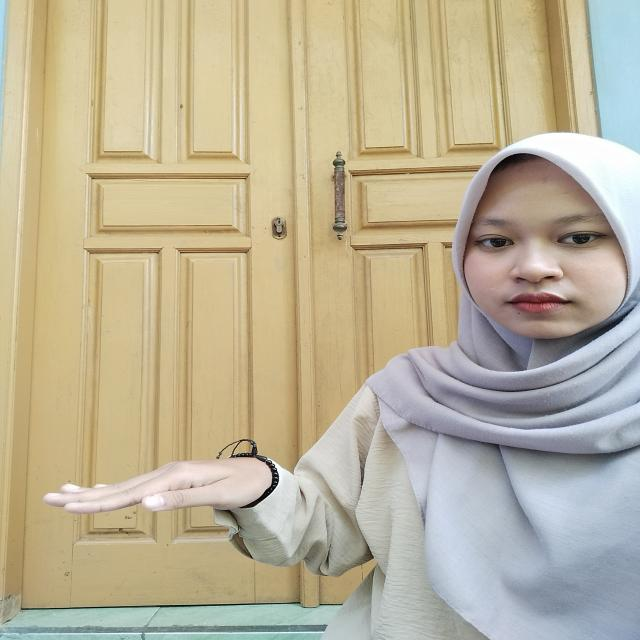adik: (11, 429, 299, 538)
